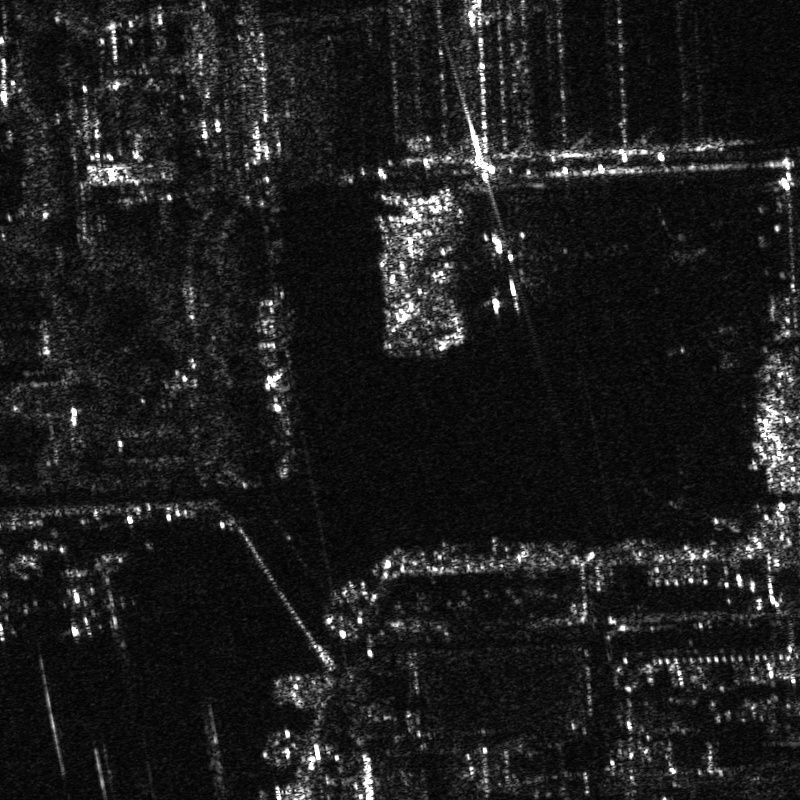Boeing737: (473, 226, 551, 317), (49, 564, 118, 643)
other: (608, 206, 712, 295)
